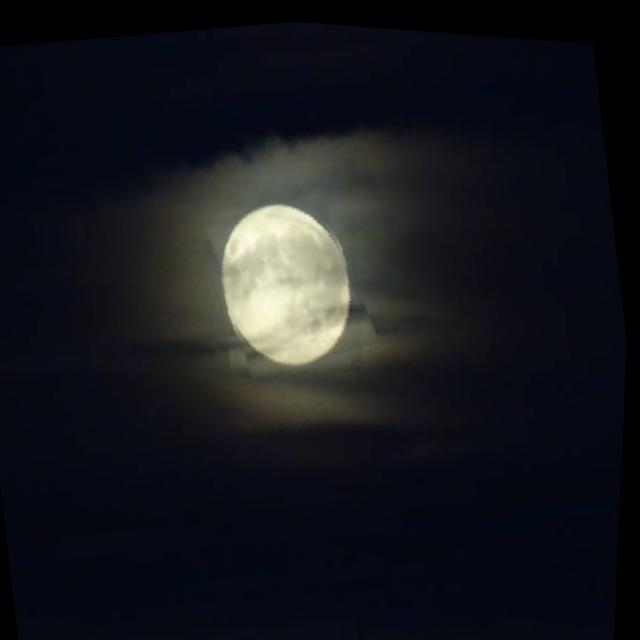moon: (208, 175, 384, 384)
